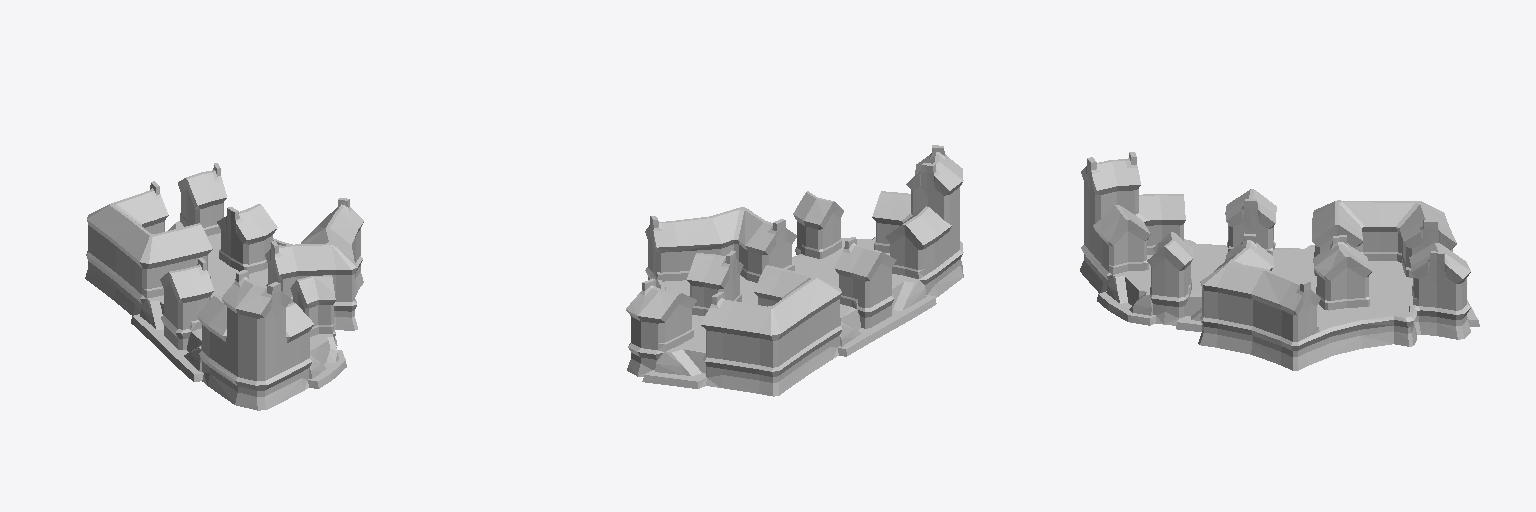
File: boh2.obj
The picture shows the model from 3 angles: view 1: azimuth 30°, elevation 25°; view 2: azimuth 150°, elevation 25°; view 3: azimuth 270°, elevation 25°; orthographic projection.
Visible parts, largest first — view 1: boh2.001; view 2: boh2.001; view 3: boh2.001.
Part boxes in pixels (bbox=[...]): boh2.001: bbox=[85, 163, 363, 410]; boh2.001: bbox=[626, 145, 963, 396]; boh2.001: bbox=[1080, 152, 1479, 370].
Size of the model in its own units: 6.7 by 3.26 by 10.06.